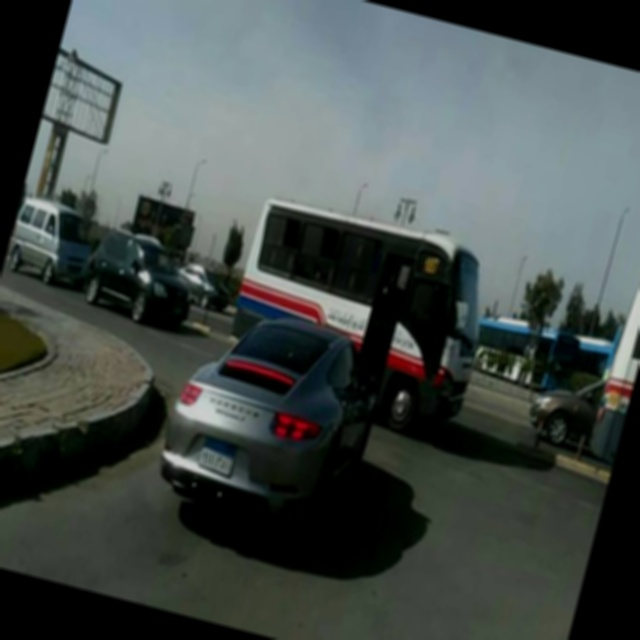License Plate: (194, 429, 241, 480)
